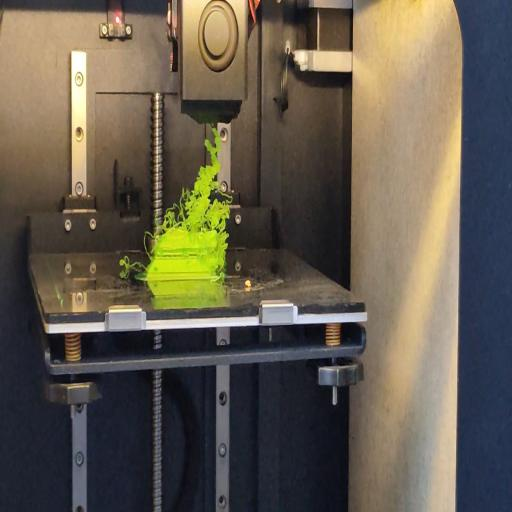spaghetti: (159, 130, 228, 236), (218, 240, 230, 282), (119, 255, 146, 273), (144, 230, 152, 260)
